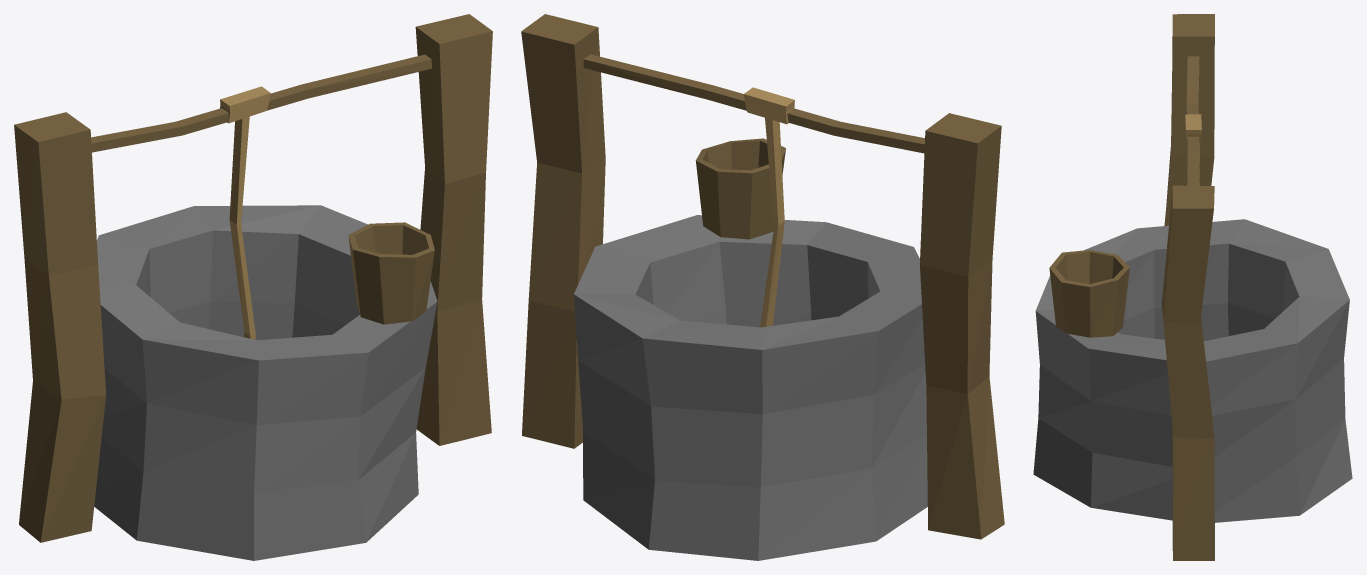
Rendered from brunnen.fbx.
The picture shows the model from 3 angles, left to right: view 1: azimuth 30°, elevation 25°; view 2: azimuth 150°, elevation 25°; view 3: azimuth 270°, elevation 25°; orthographic projection. The views are drawn at different scales.
Visible parts, largest first — view 1: Brunnen, Gestell, Eimer, Seil; view 2: Brunnen, Gestell, Eimer, Seil; view 3: Brunnen, Gestell, Eimer, Seil.
Boxes of the visible parts, bbox=[...] form: Brunnen: bbox=[94, 205, 437, 560]; Gestell: bbox=[14, 14, 492, 542]; Eimer: bbox=[348, 222, 434, 324]; Seil: bbox=[220, 86, 270, 339]; Brunnen: bbox=[574, 215, 927, 560]; Gestell: bbox=[521, 14, 1004, 539]; Eimer: bbox=[695, 138, 785, 239]; Seil: bbox=[744, 87, 794, 327]; Brunnen: bbox=[1033, 219, 1352, 522]; Gestell: bbox=[1161, 14, 1214, 560]; Eimer: bbox=[1049, 250, 1129, 337]; Seil: bbox=[1185, 114, 1202, 185].
Size of the model in its own units: 242 by 207 by 167.
